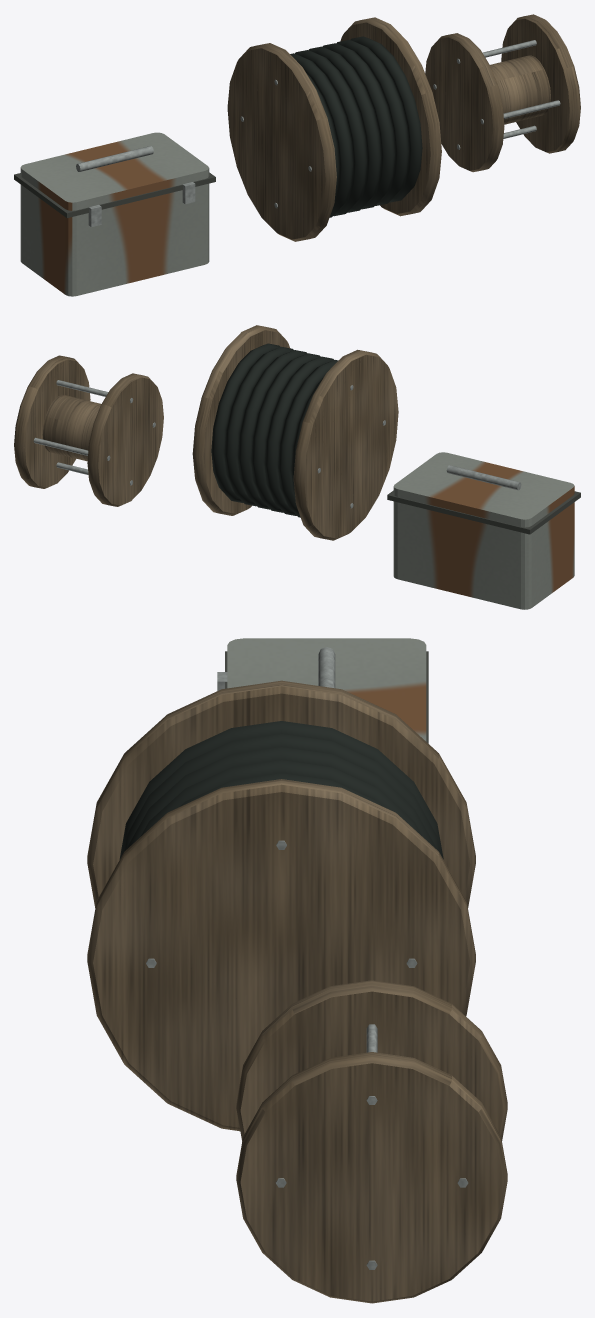
The model's file is SM_SubstationSite_Equipment.glb.
The picture shows the model from 3 angles, top to bottom: view 1: azimuth 30°, elevation 25°; view 2: azimuth 150°, elevation 25°; view 3: azimuth 270°, elevation 25°; orthographic projection. The views are drawn at different scales.
Visible parts, largest first — view 1: SM_SubstationSite_Equipment; view 2: SM_SubstationSite_Equipment; view 3: SM_SubstationSite_Equipment.
Part boxes in pixels (x1,y1,x2,y2): SM_SubstationSite_Equipment: [14, 14, 580, 296]; SM_SubstationSite_Equipment: [14, 325, 580, 609]; SM_SubstationSite_Equipment: [87, 638, 507, 1303].
Bounding box in the file's own units: 2.54 × 0.86 × 0.93.
5 materials, 3 textured.
